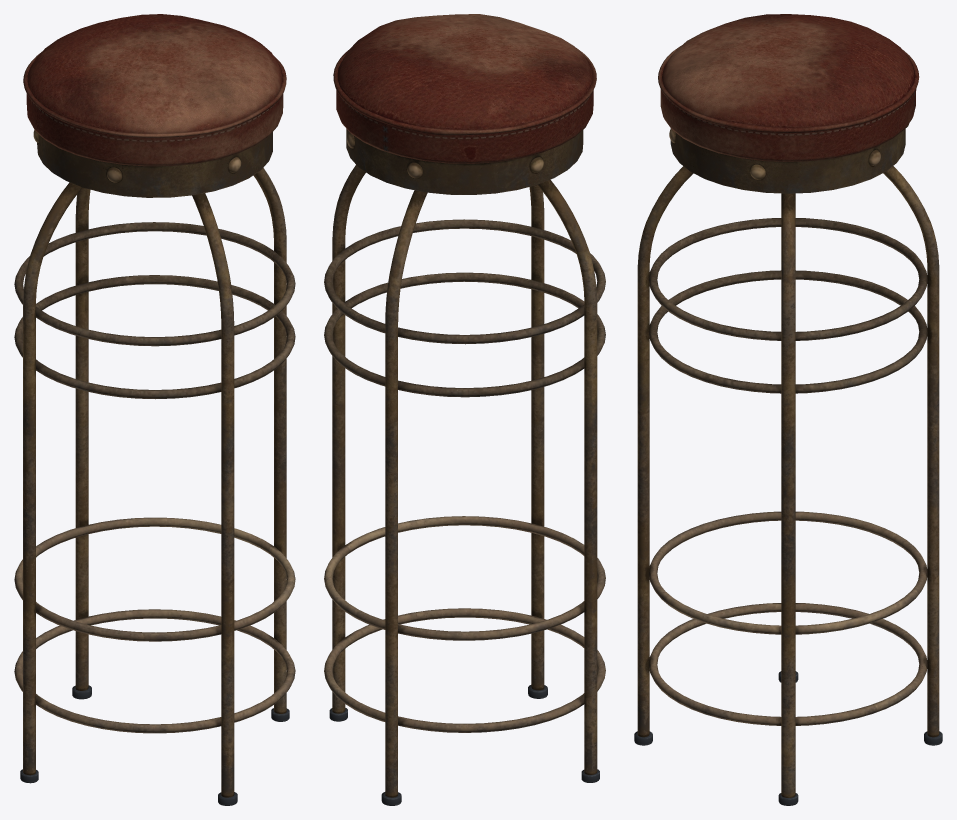
The model's file is polyhaven-metal-stool.glb.
3 renders of one model, left to right at view 1: azimuth 30°, elevation 25°; view 2: azimuth 150°, elevation 25°; view 3: azimuth 270°, elevation 25°, orthographic.
Visible parts, largest first — view 1: metal_stool_01; view 2: metal_stool_01; view 3: metal_stool_01.
Part boxes in pixels (bbox=[...]): metal_stool_01: bbox=[14, 14, 295, 805]; metal_stool_01: bbox=[324, 14, 605, 805]; metal_stool_01: bbox=[634, 14, 942, 805].
Bounding box in the file's own units: 0.352 × 0.8828 × 0.3546.
1 material, 1 textured.
